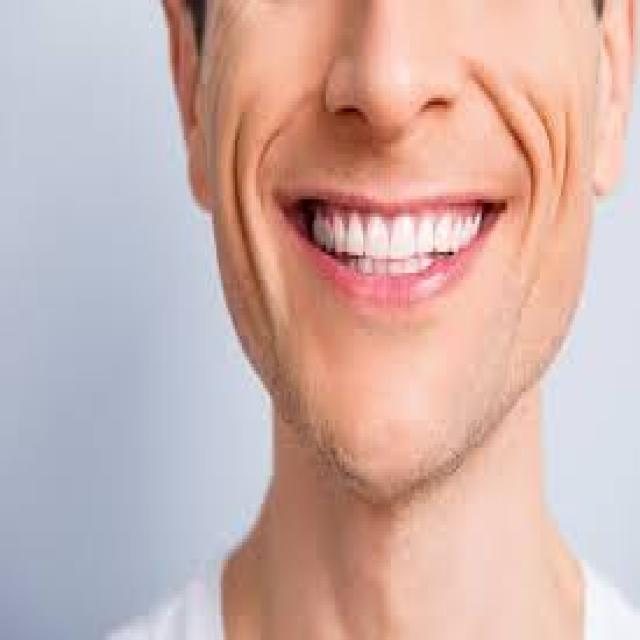tooth: (307, 206, 331, 248), (391, 220, 414, 259), (366, 213, 386, 256), (454, 214, 479, 242), (346, 213, 361, 256), (416, 220, 433, 256), (438, 220, 452, 252), (333, 217, 344, 252)
